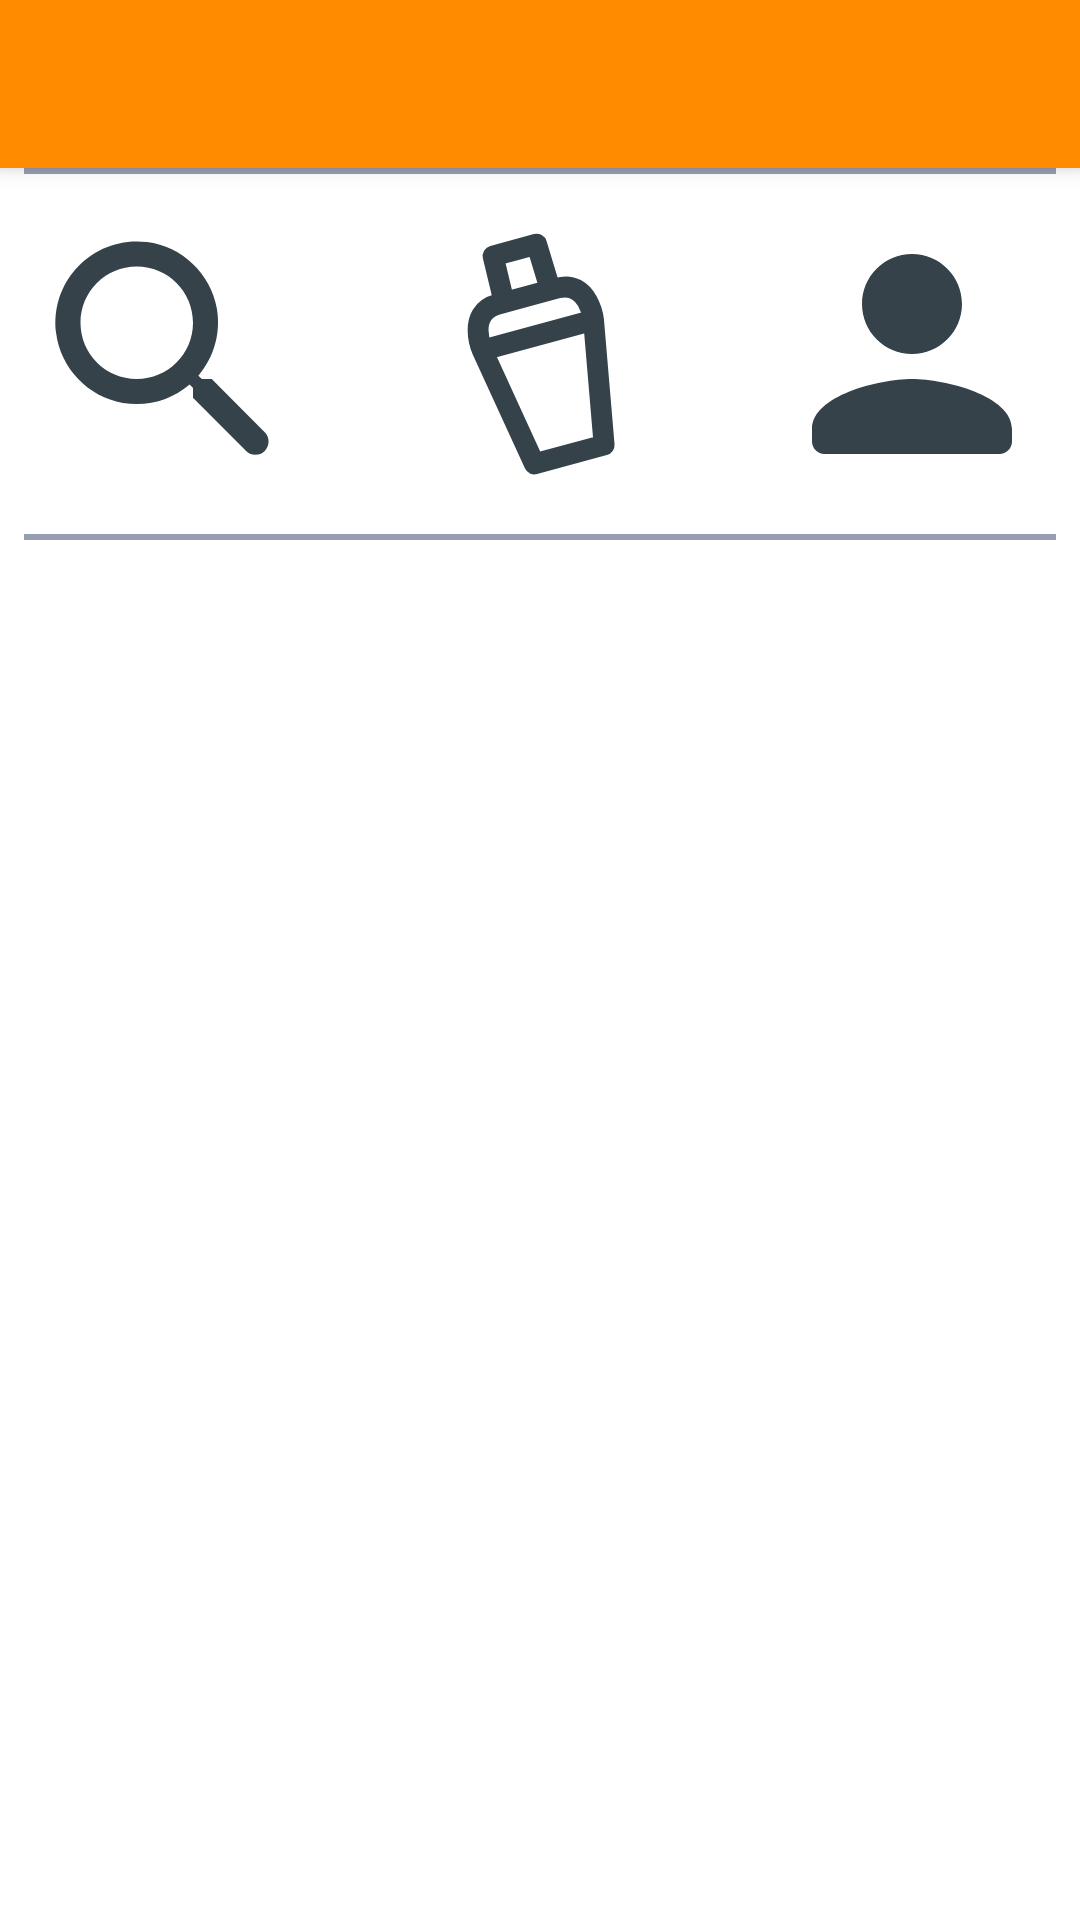

Named icons in this screenshot (1080×1920) and their bounding boxes, (x1, y1, x2, y2):
person: (812, 254, 1012, 454)
search: (55, 241, 269, 455)
shake: (467, 233, 615, 475)
